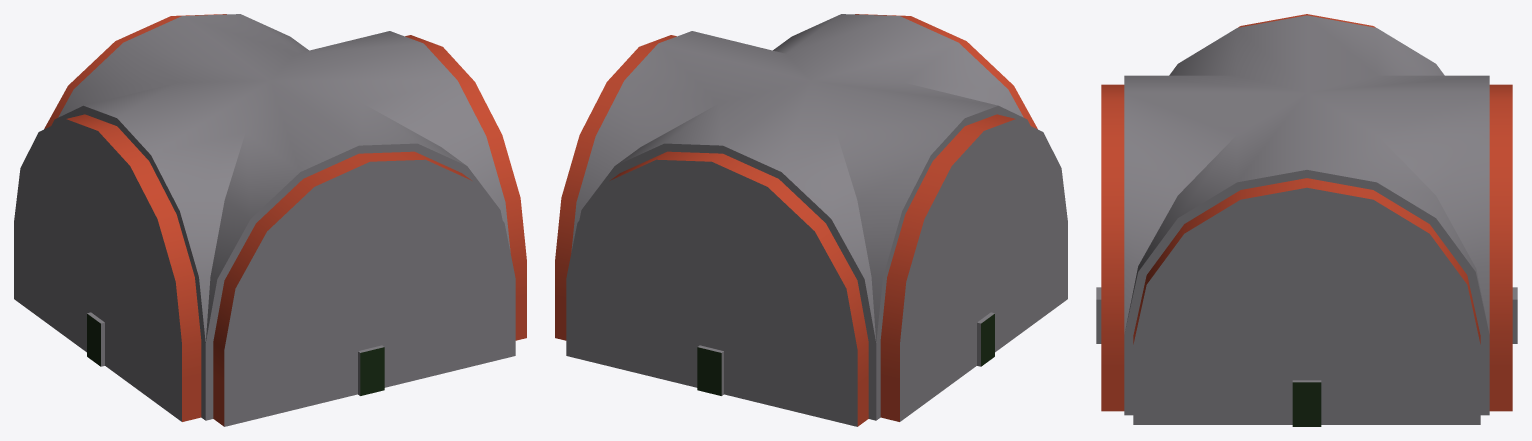
The model's file is PicduMidi_Sala_sotano_4puertas.fbx.
The picture shows the model from 3 angles, left to right: view 1: azimuth 30°, elevation 25°; view 2: azimuth 150°, elevation 25°; view 3: azimuth 270°, elevation 25°; orthographic projection. The views are drawn at different scales.
Parts seen in each view (by area): view 1: sala_laberinto; view 2: sala_laberinto; view 3: sala_laberinto.
Boxes of the visible parts, box(x1,y1,x2,y2) form: sala_laberinto: box(14, 14, 526, 426); sala_laberinto: box(555, 14, 1067, 426); sala_laberinto: box(1096, 14, 1517, 426).
Size of the model in its own units: 1844 by 1186 by 1844.
